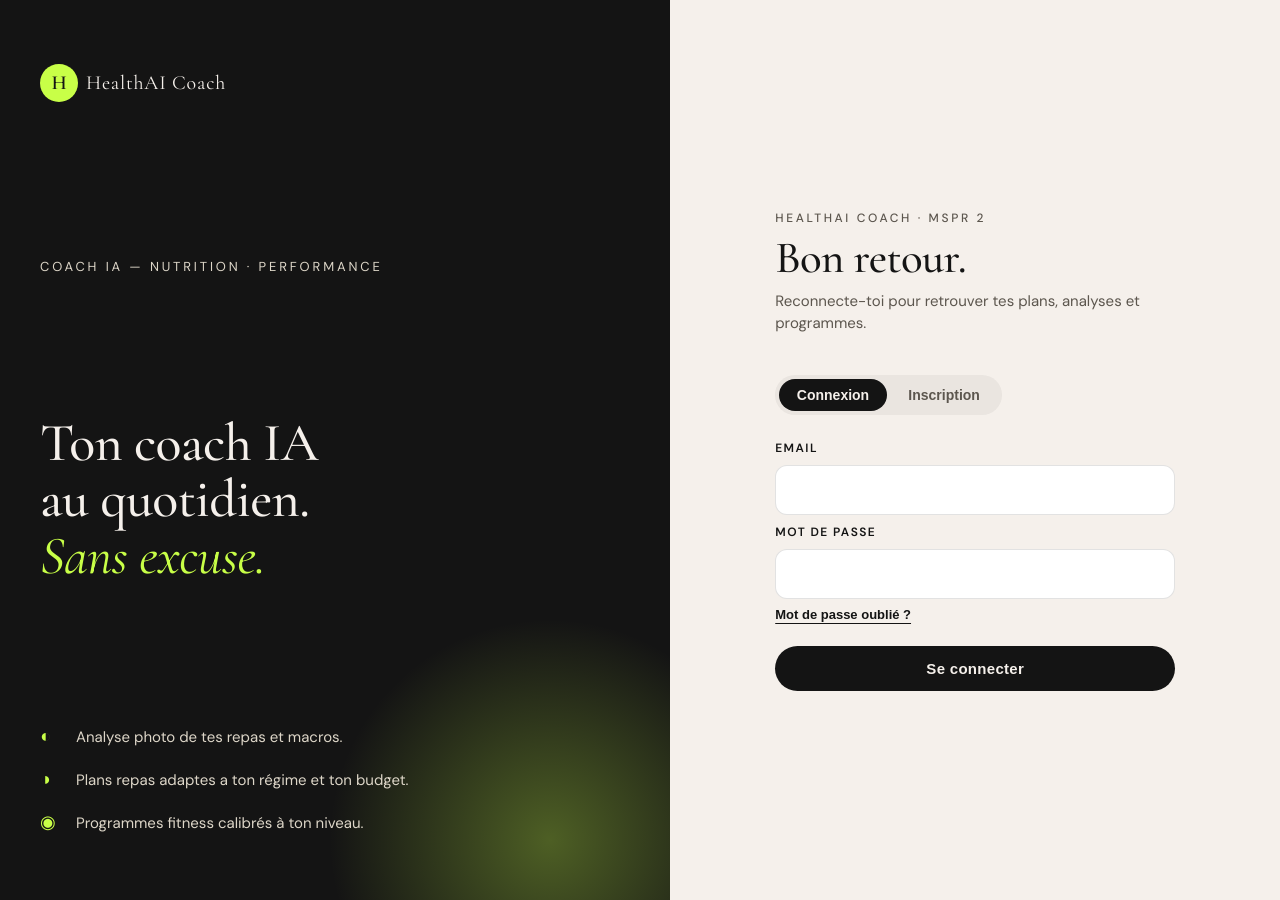
Scenario: AuthView › submit register: refuse si les mots de passe ne correspondent pas
The width and height of the screenshot is (1280, 900).
Click the button with class "auth-tab" showing "Inscription" at x=944, y=395, box x1=891 y1=379 x2=998 y2=411
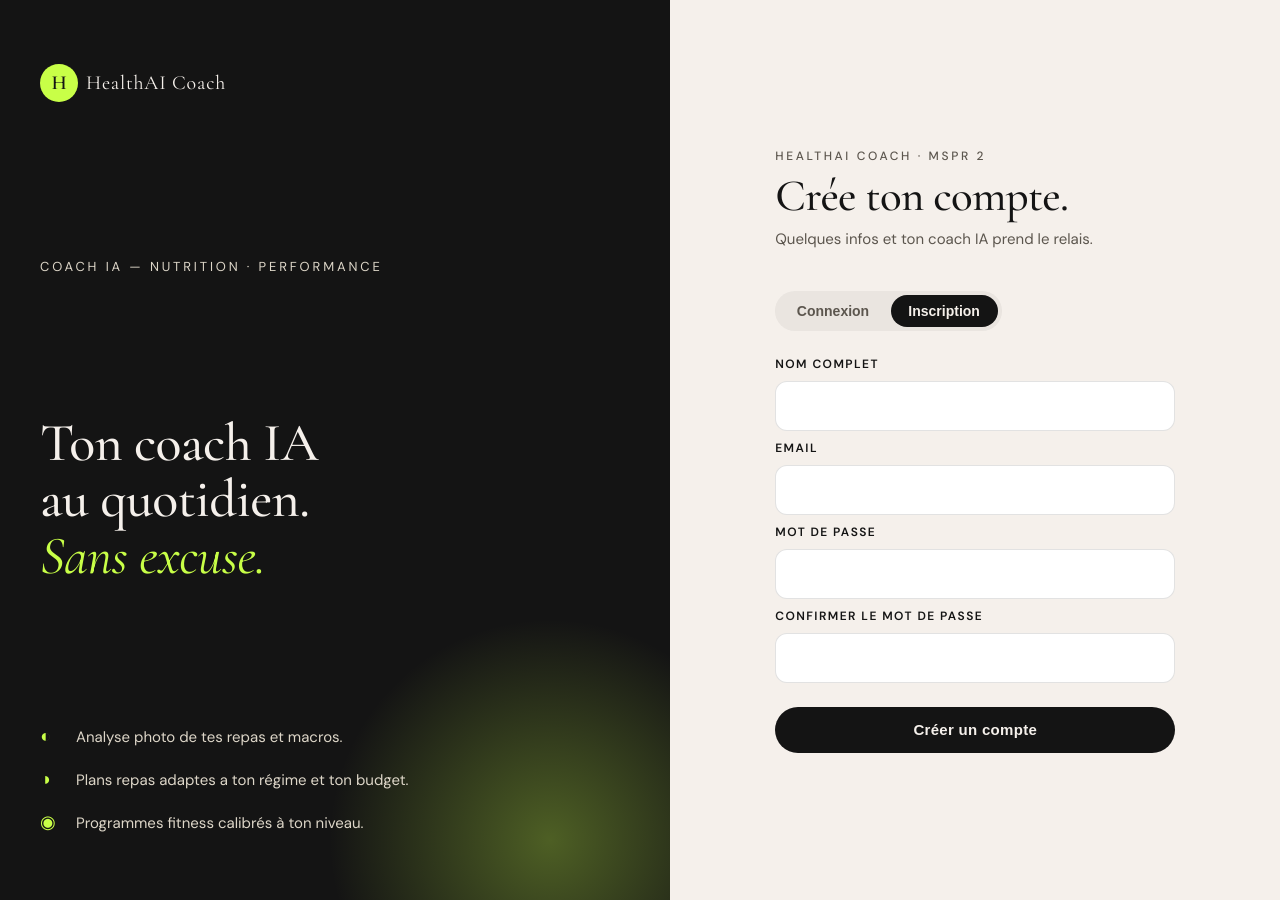
Type "Arthur" into the field with id "register-name" at x=975, y=406, box x1=775 y1=381 x2=1175 y2=431
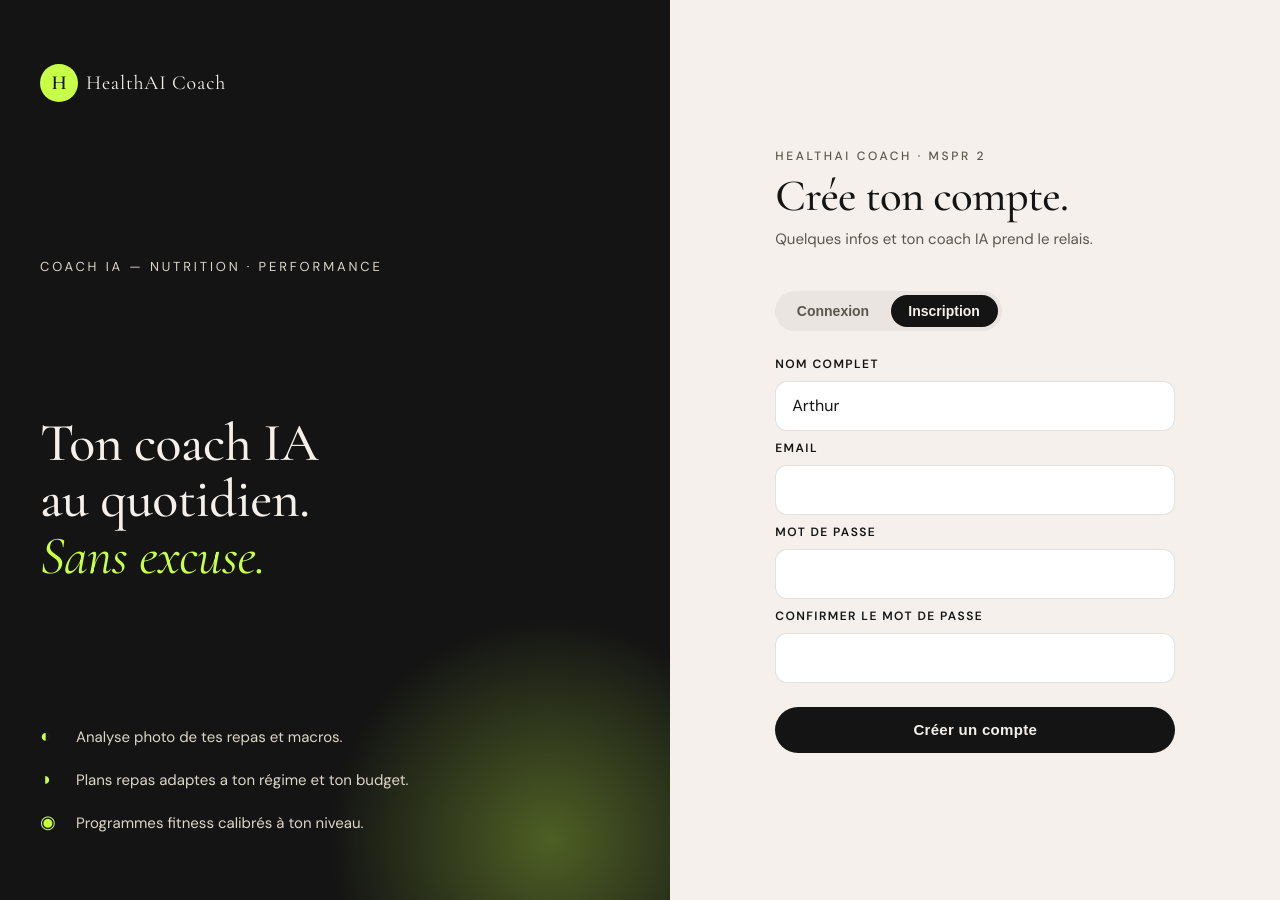
Type "a@b.c" into the field with id "register-email" at x=975, y=490, box x1=775 y1=465 x2=1175 y2=515
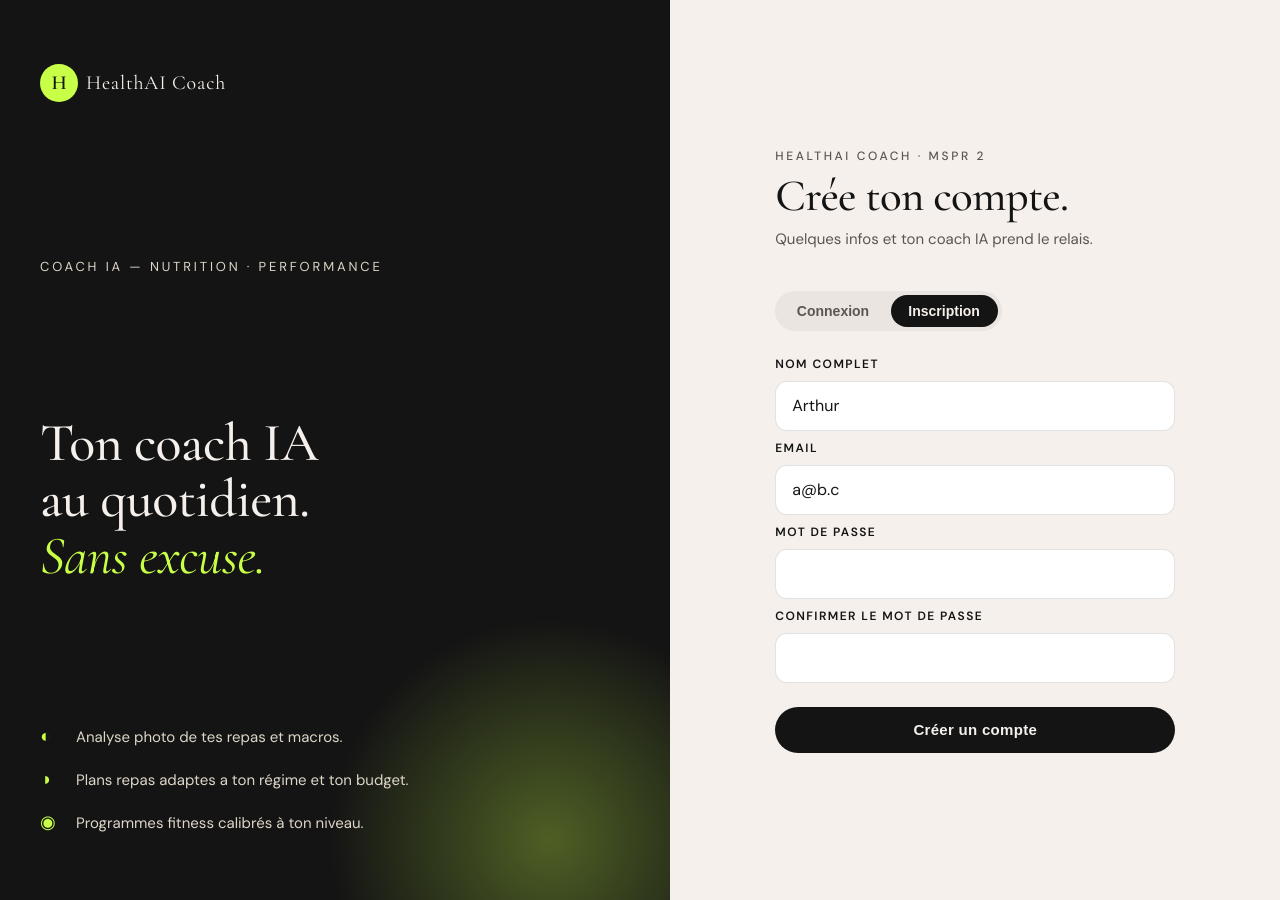
Type "password" into the password field with id "register-password" at x=975, y=574, box x1=775 y1=549 x2=1175 y2=599
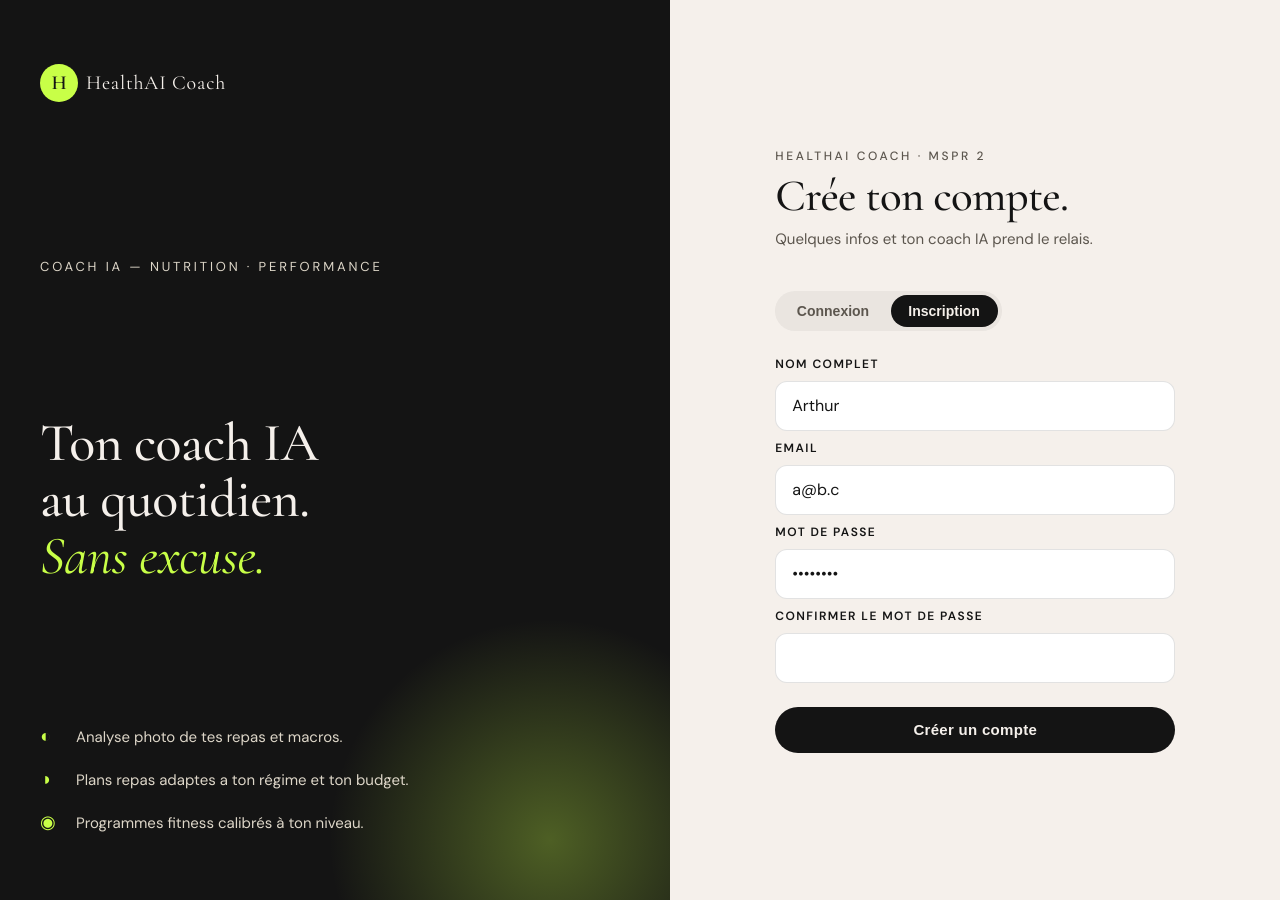
Type "different" into the password field with id "register-confirm-password" at x=975, y=658, box x1=775 y1=633 x2=1175 y2=683
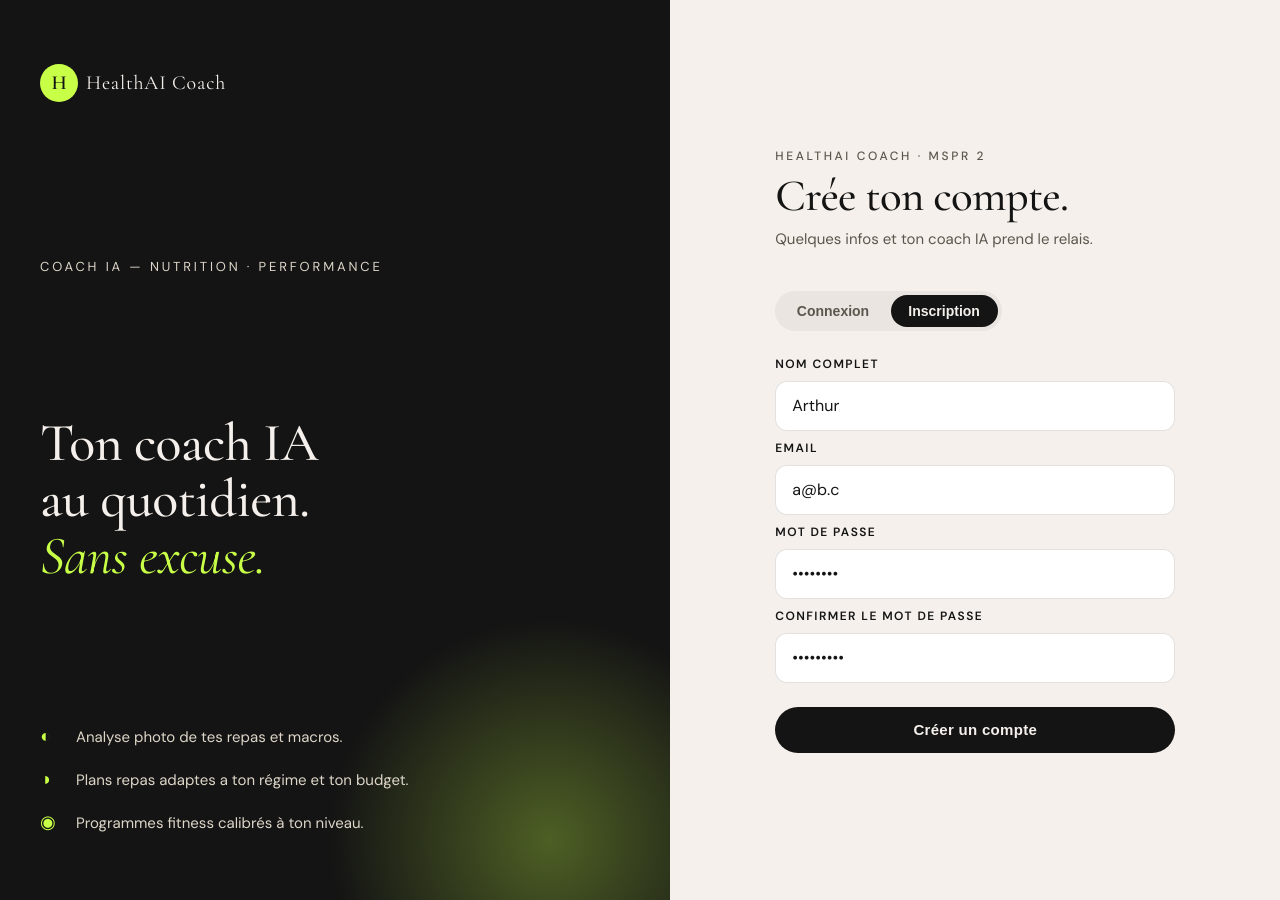
Submit the form, box x1=775 y1=355 x2=1175 y2=753
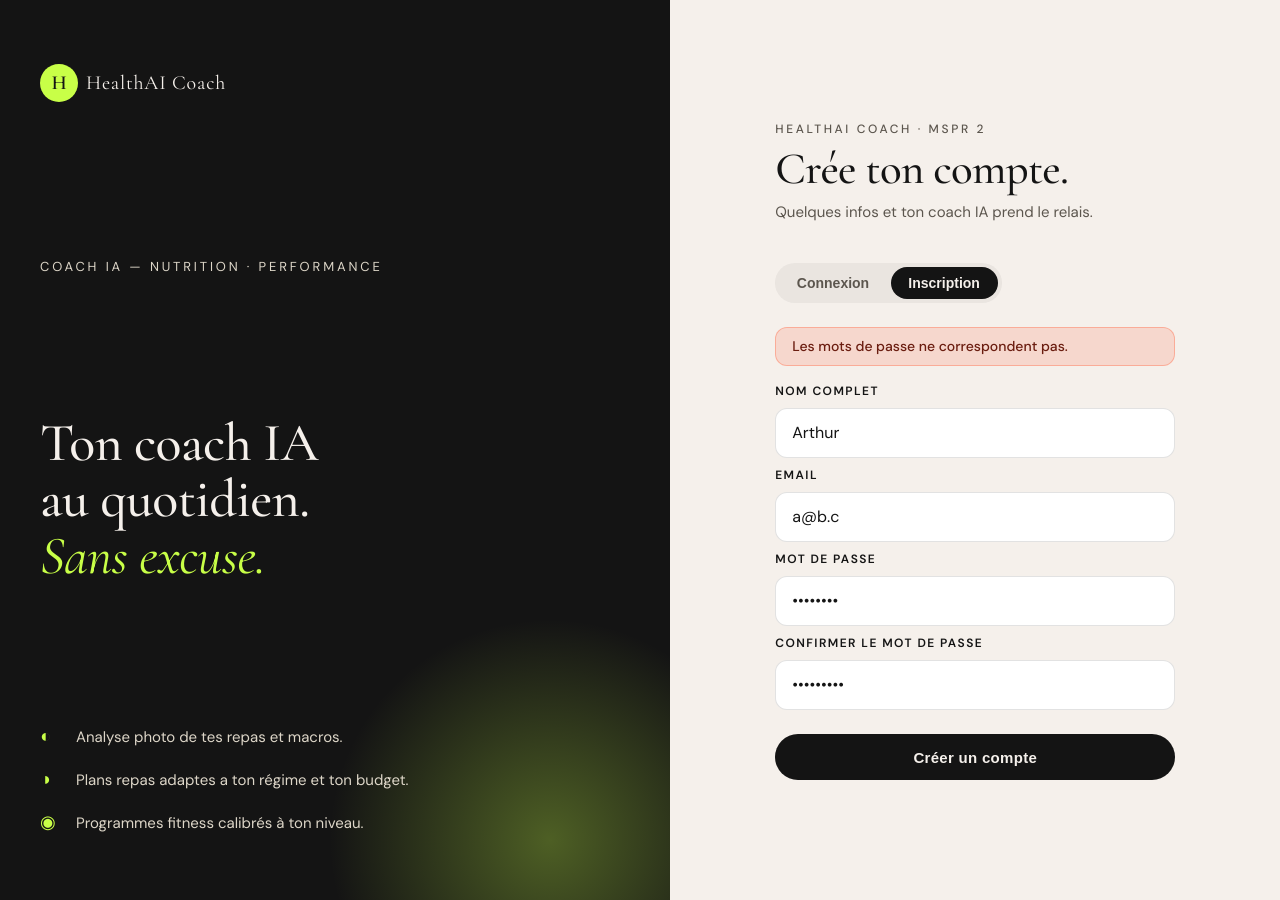
Expected: the message with class "alert-error" shows "ne correspondent pas", x1=792 y1=337 x2=1068 y2=355
